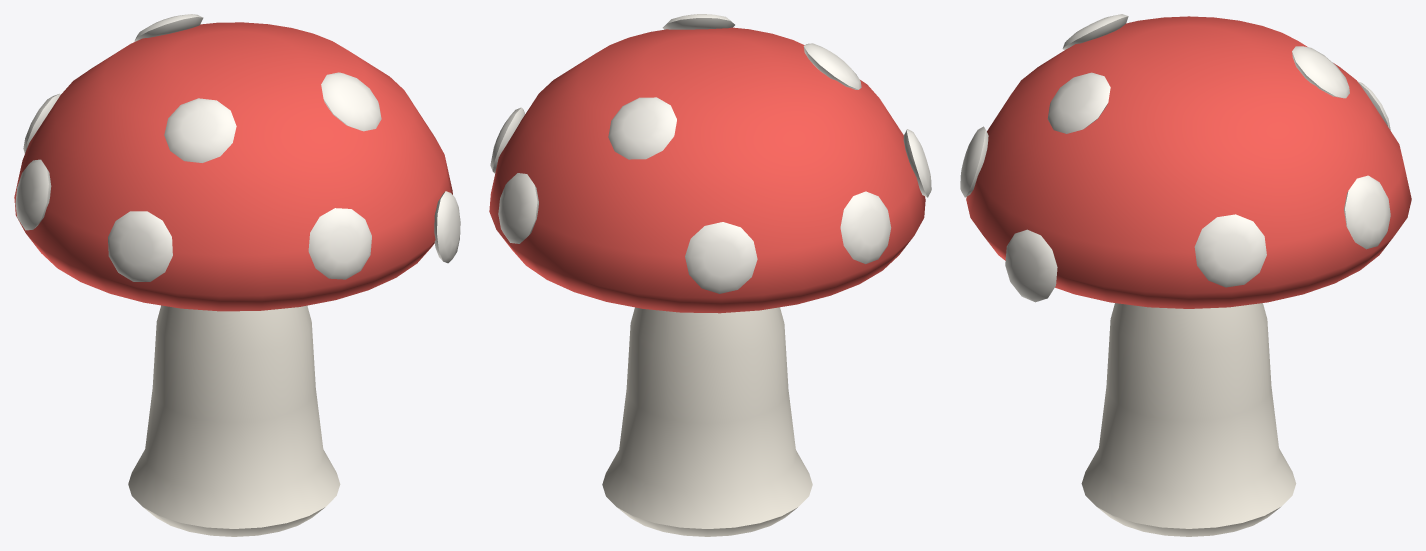
File: veg_mushroom.glb
The picture shows the model from 3 angles, left to right: view 1: azimuth 30°, elevation 25°; view 2: azimuth 150°, elevation 25°; view 3: azimuth 270°, elevation 25°; orthographic projection.
Parts seen in each view (by area): view 1: veg_mushroom; view 2: veg_mushroom; view 3: veg_mushroom.
Part boxes in pixels (x1,y1,x2,y2): veg_mushroom: (14, 14, 460, 536); veg_mushroom: (489, 14, 931, 536); veg_mushroom: (960, 14, 1411, 536).
Size of the model in its own units: 0.5482 by 0.6 by 0.5472.
